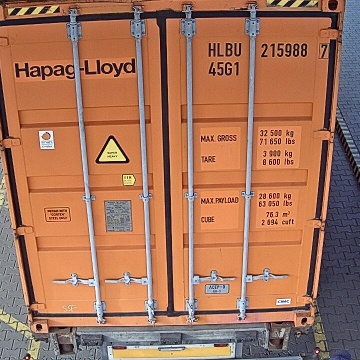serial_id: (208, 43, 328, 58)
